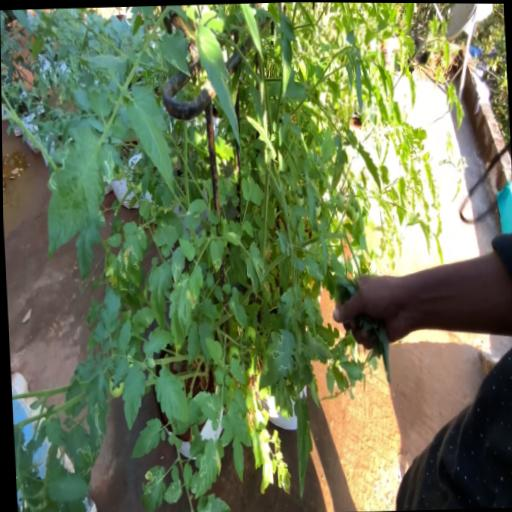Leaf_Miner: (38, 122, 119, 259), (253, 325, 296, 390), (81, 369, 109, 463), (71, 207, 106, 281), (113, 219, 147, 292), (189, 436, 220, 499), (158, 32, 190, 77), (135, 463, 164, 512), (242, 238, 263, 299), (190, 388, 219, 420), (226, 283, 245, 330), (197, 489, 229, 512), (207, 235, 224, 271), (168, 244, 183, 282), (302, 252, 323, 279), (159, 477, 180, 504), (219, 176, 233, 195), (105, 231, 120, 247), (229, 193, 237, 207)
